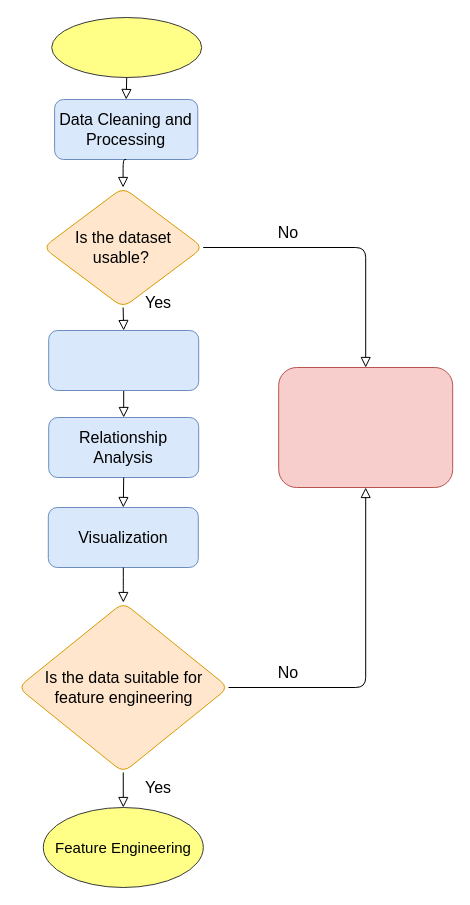
The diagram is 470 pixels wide and 905 high, and some of its shapes have lost their labels. The shapes that lost their labels are listed below. From the top down, each one's centre as x and y in pixels, then its label:
(x=126, y=47): Data Collection
(x=123, y=360): Statistical Techniques
(x=365, y=427): Public Datasets Alternative source Data Augmentation Re-evaluation Model
